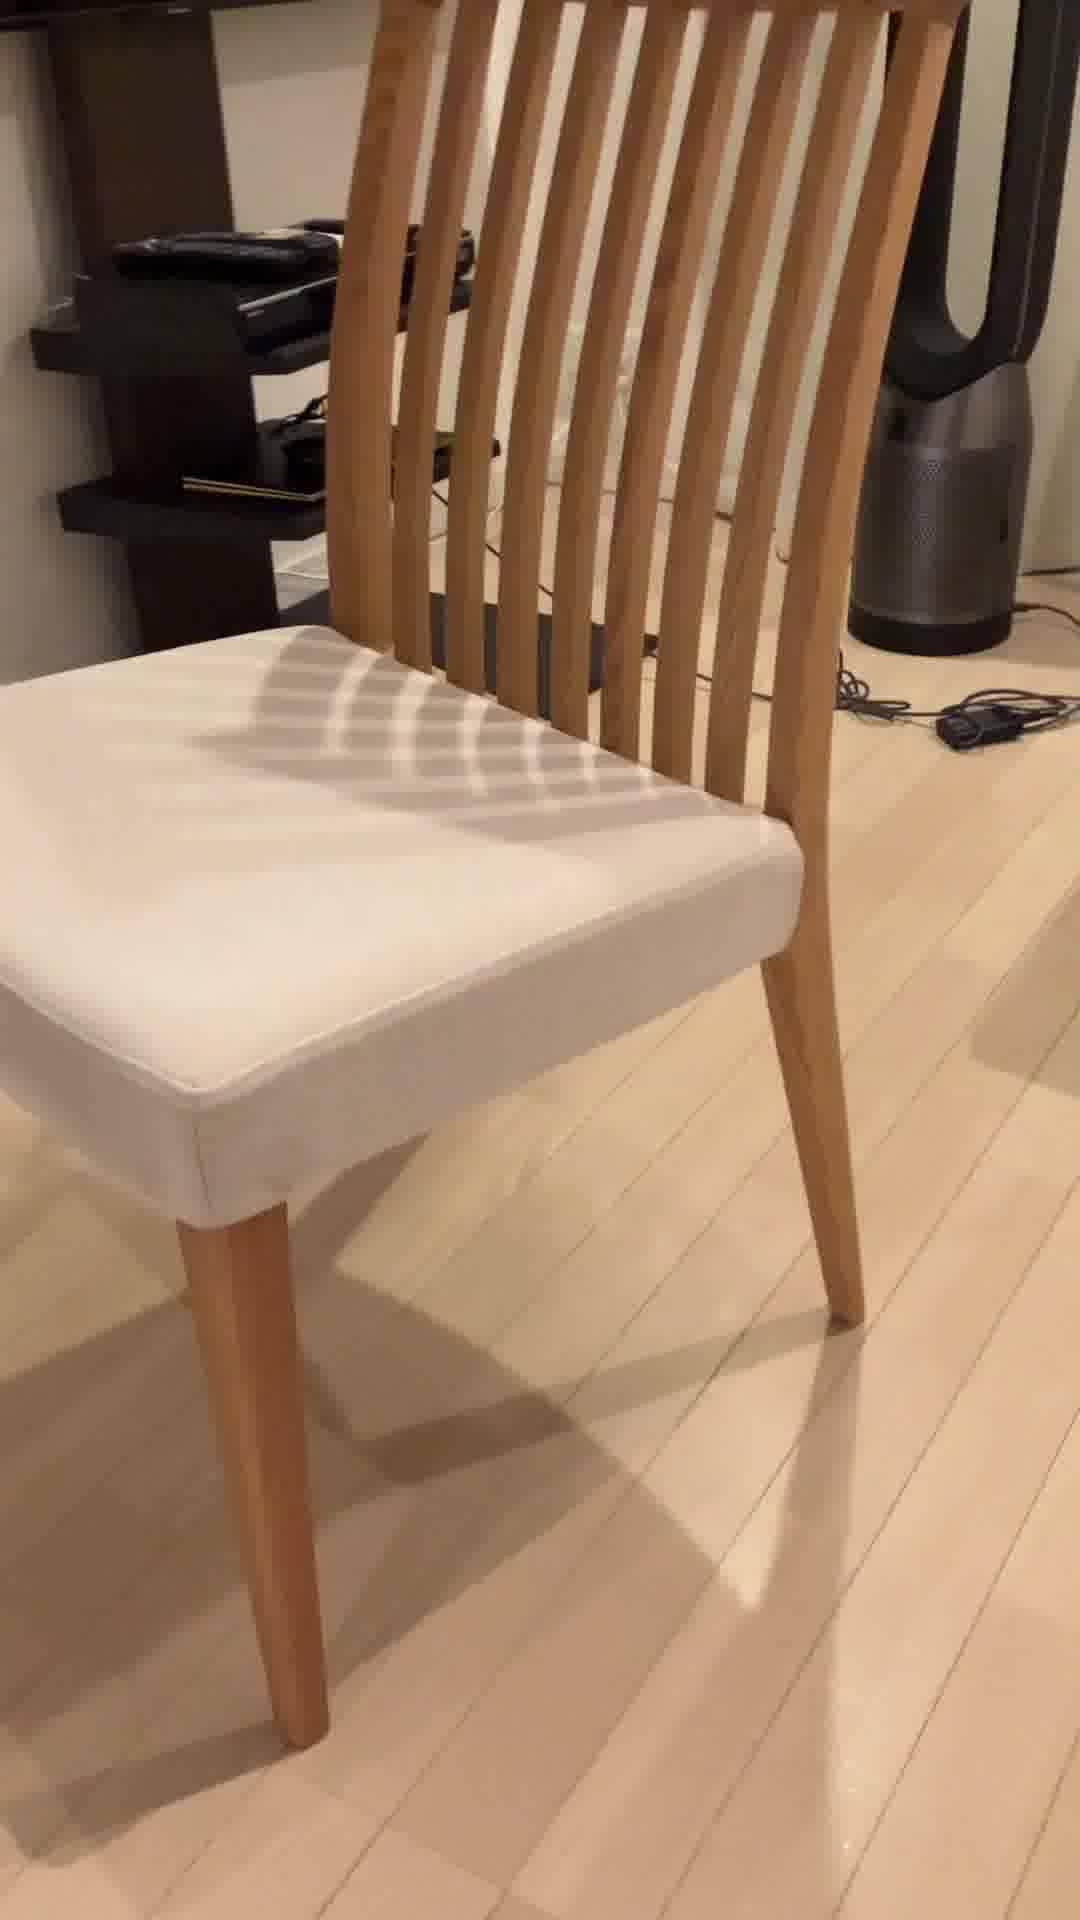takumikan-chair: (0, 0, 980, 1759)
